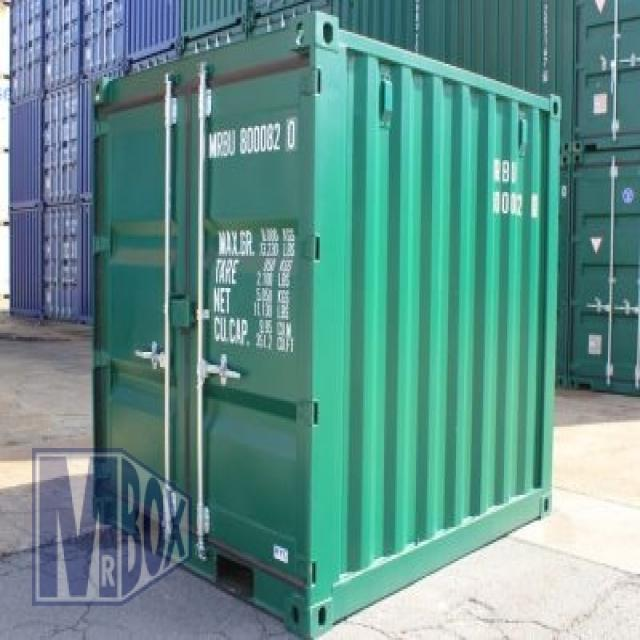container_number_h: (202, 113, 301, 166)
